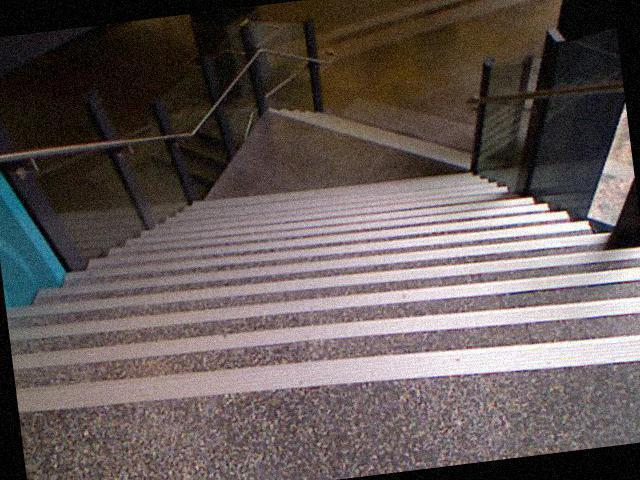Escaleras: (8, 146, 640, 425), (265, 78, 489, 195)
